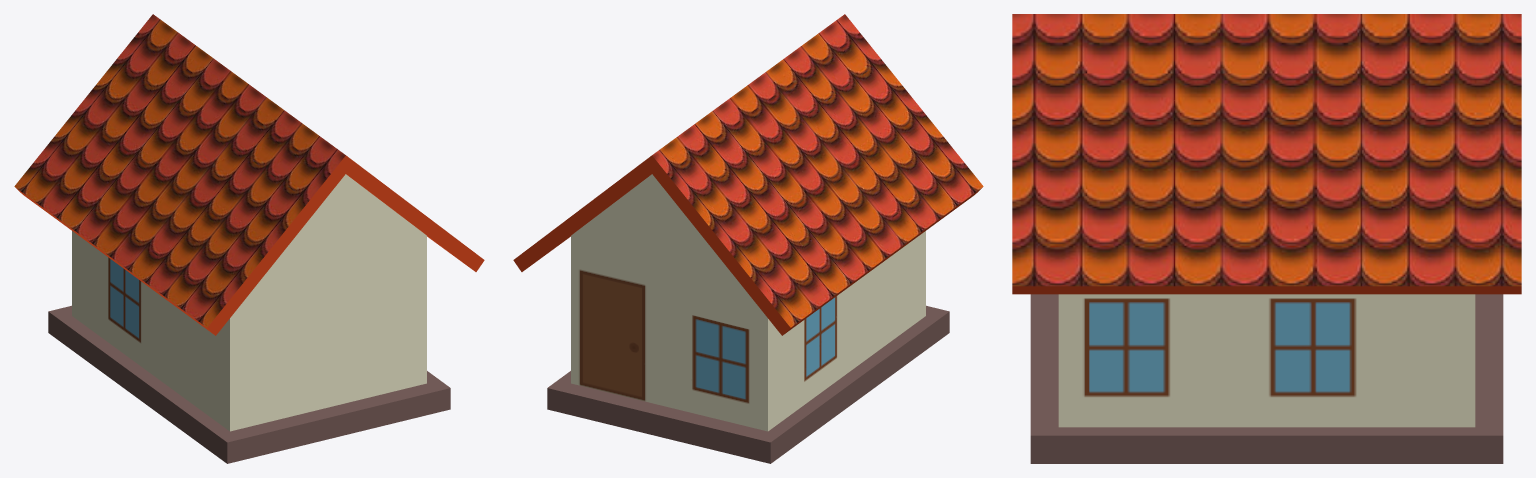
The model's file is Aset  rumah masi kurang.fbx.
The picture shows the model from 3 angles, left to right: view 1: azimuth 30°, elevation 25°; view 2: azimuth 150°, elevation 25°; view 3: azimuth 270°, elevation 25°; orthographic projection. The views are drawn at different scales.
Visible parts, largest first — view 1: Rumah 1 masi ggl; view 2: Rumah 1 masi ggl; view 3: Rumah 1 masi ggl.
Boxes of the visible parts, x1,y1,x2,y2 form: Rumah 1 masi ggl: [14, 14, 484, 463]; Rumah 1 masi ggl: [513, 14, 983, 463]; Rumah 1 masi ggl: [1012, 14, 1521, 463].
Bounding box in the file's own units: 282 × 278 × 339.
Materials: 1 (1 with a texture image).
